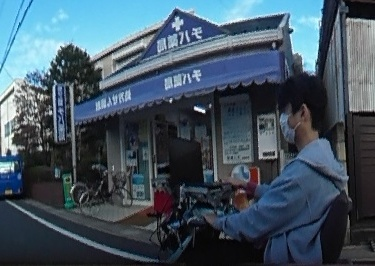person: (197, 71, 347, 266)
